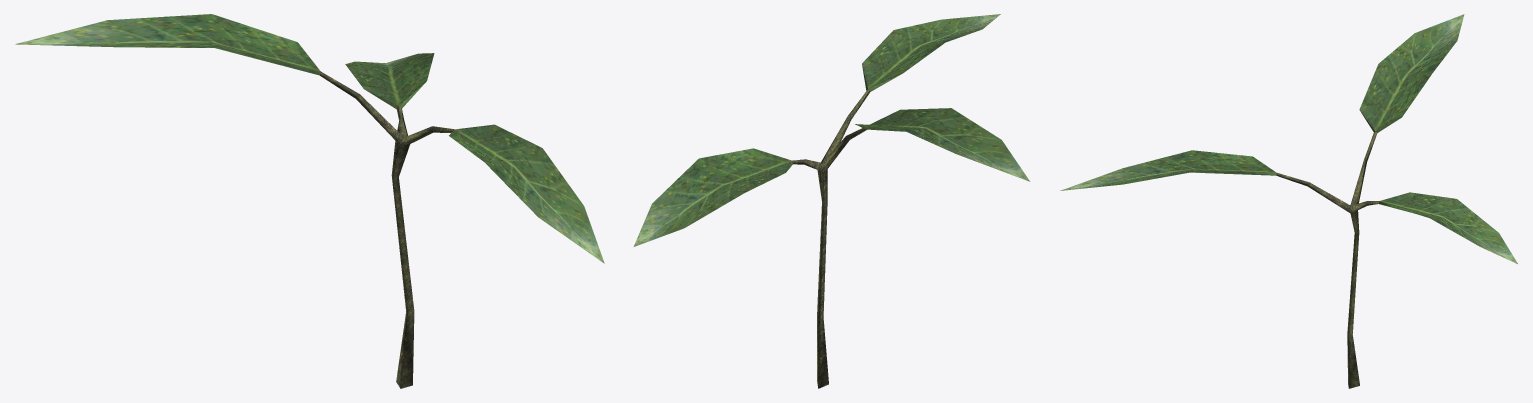
File: leaf_smallflora_a1_l0.fbx
The picture shows the model from 3 angles, left to right: view 1: azimuth 30°, elevation 25°; view 2: azimuth 150°, elevation 25°; view 3: azimuth 270°, elevation 25°; orthographic projection. The views are drawn at different scales.
Visible parts, largest first — view 1: mesh_node; view 2: mesh_node; view 3: mesh_node.
Boxes of the visible parts, x1,y1,x2,y2 form: mesh_node: (15,14,604,388); mesh_node: (633,14,1030,388); mesh_node: (1060,14,1517,388).
Bounding box in the file's own units: 1.43 × 1.21 × 1.89.
2 materials, 2 textured.
